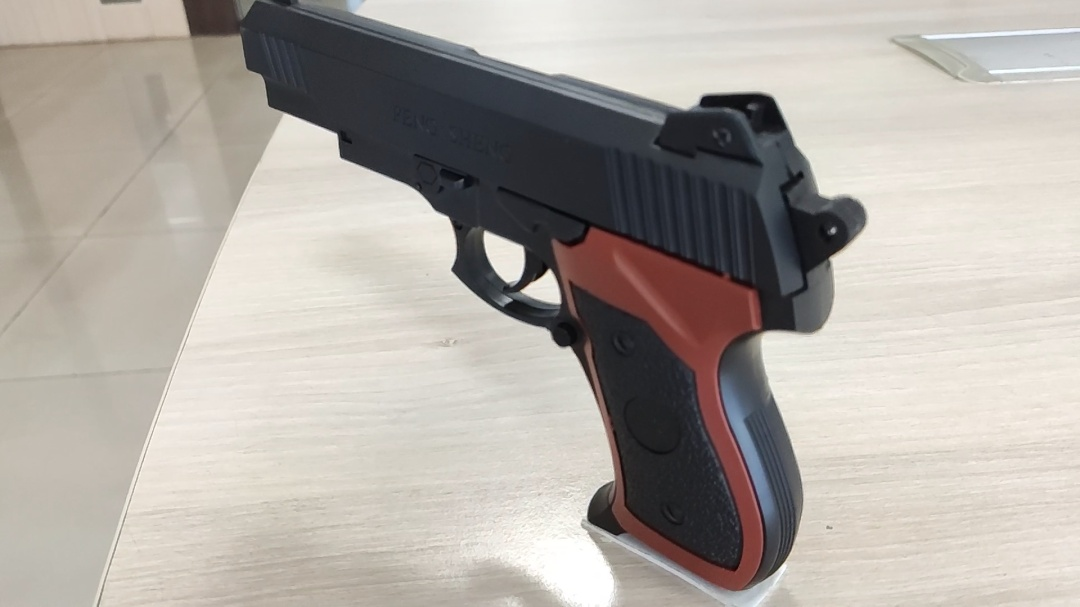gun: (238, 1, 868, 592)
